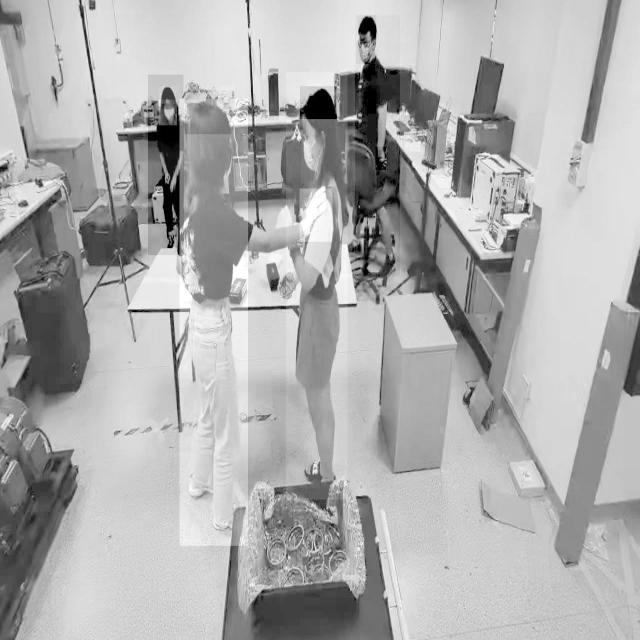face_mask: (301, 138, 321, 183), (159, 100, 177, 126), (356, 42, 370, 65)
hand_glove: (300, 188, 332, 242)
hand_noglove: (376, 146, 386, 170)
head_nohelmet: (184, 99, 232, 135), (300, 86, 338, 120), (159, 86, 177, 105), (358, 15, 377, 30)
person: (180, 99, 248, 546), (286, 72, 348, 500), (355, 15, 401, 277), (148, 75, 184, 256)
